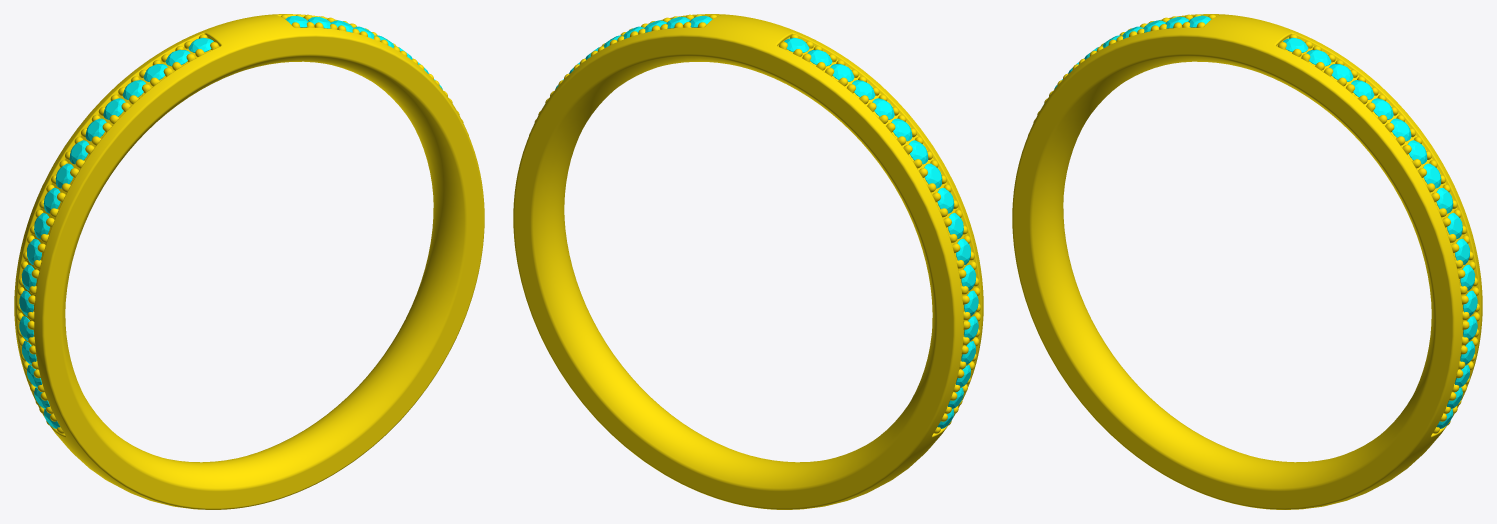
File: FRENCH-PAVE.glb
3 renders of one model, left to right at view 1: azimuth 30°, elevation 25°; view 2: azimuth 150°, elevation 25°; view 3: azimuth 330°, elevation 25°, orthographic.
Parts seen in each view (by area): view 1: metal_merged, SH-Pave-23dm; view 2: metal_merged, SH-Pave-23dm; view 3: metal_merged, SH-Pave-23dm.
Boxes of the visible parts, <box> form: metal_merged: <box>14,14,484,509</box>; SH-Pave-23dm: <box>19,16,442,428</box>; metal_merged: <box>513,14,983,509</box>; SH-Pave-23dm: <box>555,16,978,428</box>; metal_merged: <box>1012,14,1482,509</box>; SH-Pave-23dm: <box>1054,15,1477,428</box>.
Size of the model in its own units: 15.93 by 15.91 by 1.77.
